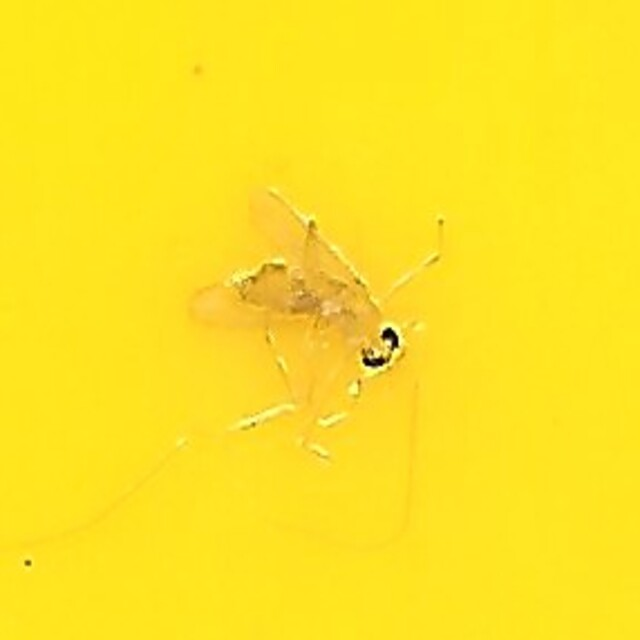Nematocera: (224, 256, 416, 384)
